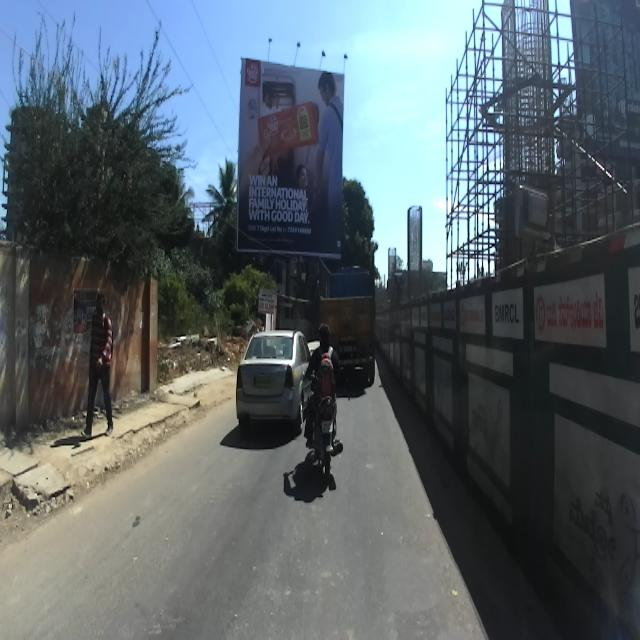car ahead at: (229, 321, 311, 436)
motorcycle ahead at: (296, 391, 348, 489)
person ahead at: (84, 292, 120, 438)
